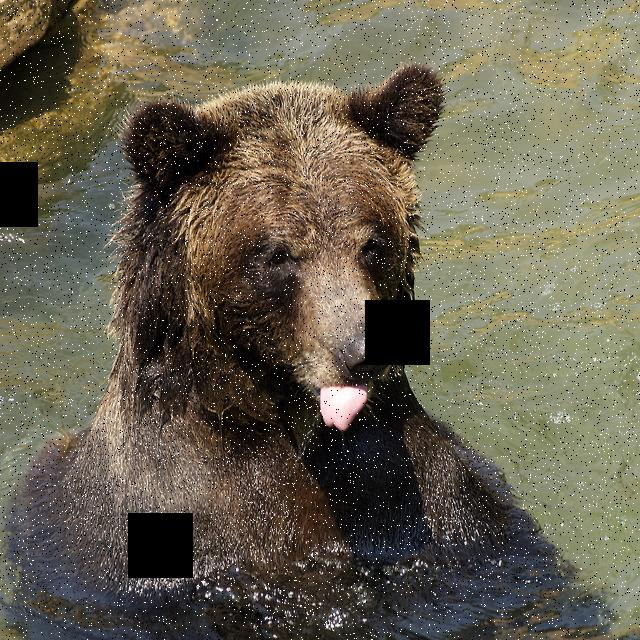Bear: (24, 56, 564, 628)
